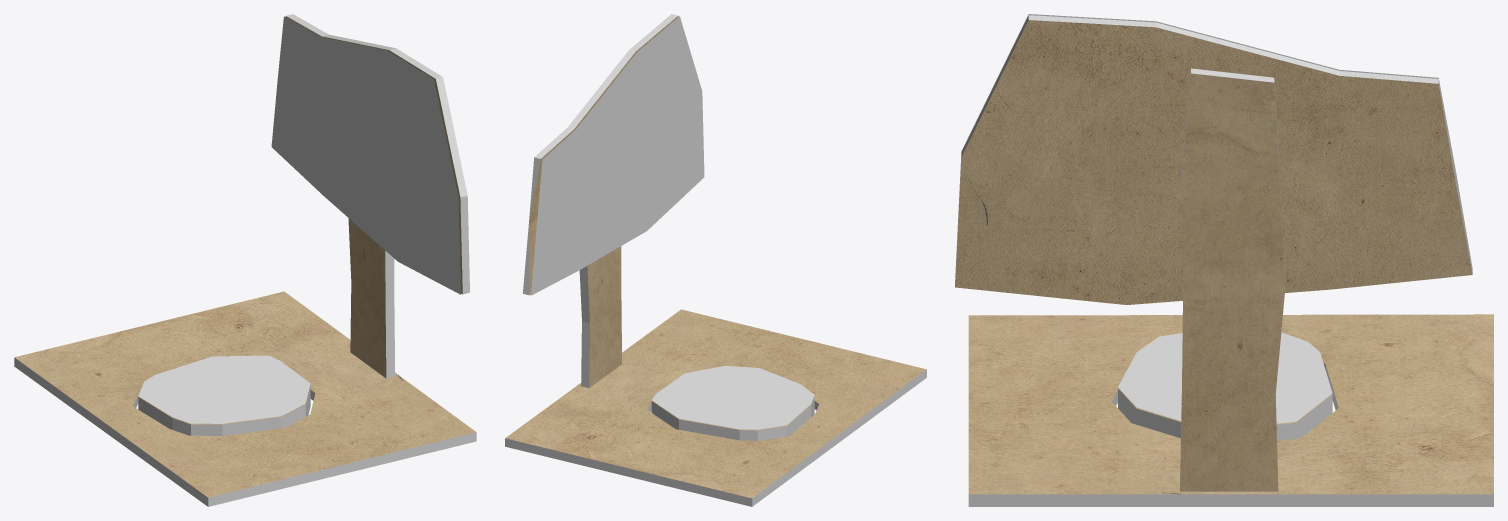
The model's file is Cardboard_Button.fbx.
3 renders of one model, left to right at view 1: azimuth 30°, elevation 25°; view 2: azimuth 150°, elevation 25°; view 3: azimuth 270°, elevation 25°, orthographic. The views are drawn at different scales.
Parts seen in each view (by area): view 1: Cardboard_Button_Static_01, Cardboard_Button_Movable_01; view 2: Cardboard_Button_Static_01, Cardboard_Button_Movable_01; view 3: Cardboard_Button_Static_01, Cardboard_Button_Movable_01.
Part boxes in pixels (box(x1,y1,x2,y2)): Cardboard_Button_Static_01: box(14, 14, 476, 506); Cardboard_Button_Movable_01: box(138, 355, 310, 435); Cardboard_Button_Static_01: box(505, 14, 926, 506); Cardboard_Button_Movable_01: box(651, 365, 814, 440); Cardboard_Button_Static_01: box(955, 14, 1493, 506); Cardboard_Button_Movable_01: box(1118, 332, 1332, 440).
Size of the model in its own units: 162 by 203 by 205.
